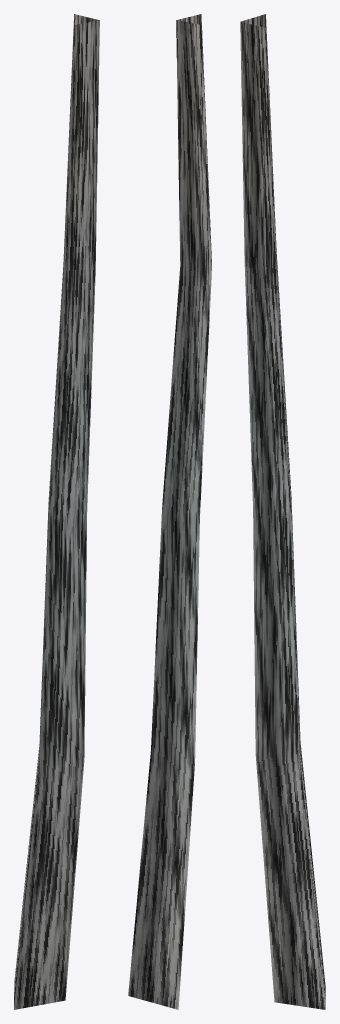
File: oak_bark_l2.gltf
3 renders of one model, left to right at view 1: azimuth 90°, elevation 25°; view 2: azimuth 150°, elevation 25°; view 3: azimuth 270°, elevation 25°, orthographic. The views are drawn at different scales.
Visible parts, largest first — view 1: oak_bark_l2; view 2: oak_bark_l2; view 3: oak_bark_l2.
Part boxes in pixels (<box>): oak_bark_l2: <box>14,14,99,1009</box>; oak_bark_l2: <box>128,14,211,1009</box>; oak_bark_l2: <box>240,14,325,1009</box>.
Bounding box in the file's own units: 0.5307 × 8.21 × 0.6492.
1 material, 1 textured.
